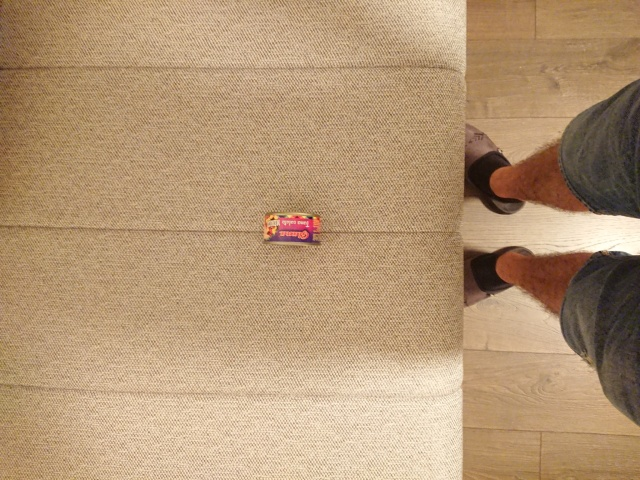Giana Tuna Salad Mexico 185g: (261, 209, 326, 248)
